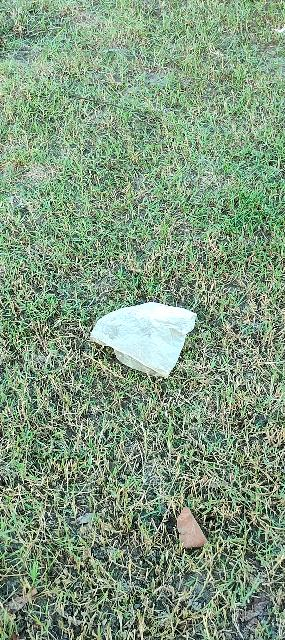polythene: (80, 268, 206, 389)
